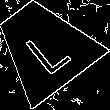L_NW: (15, 17, 72, 76)
